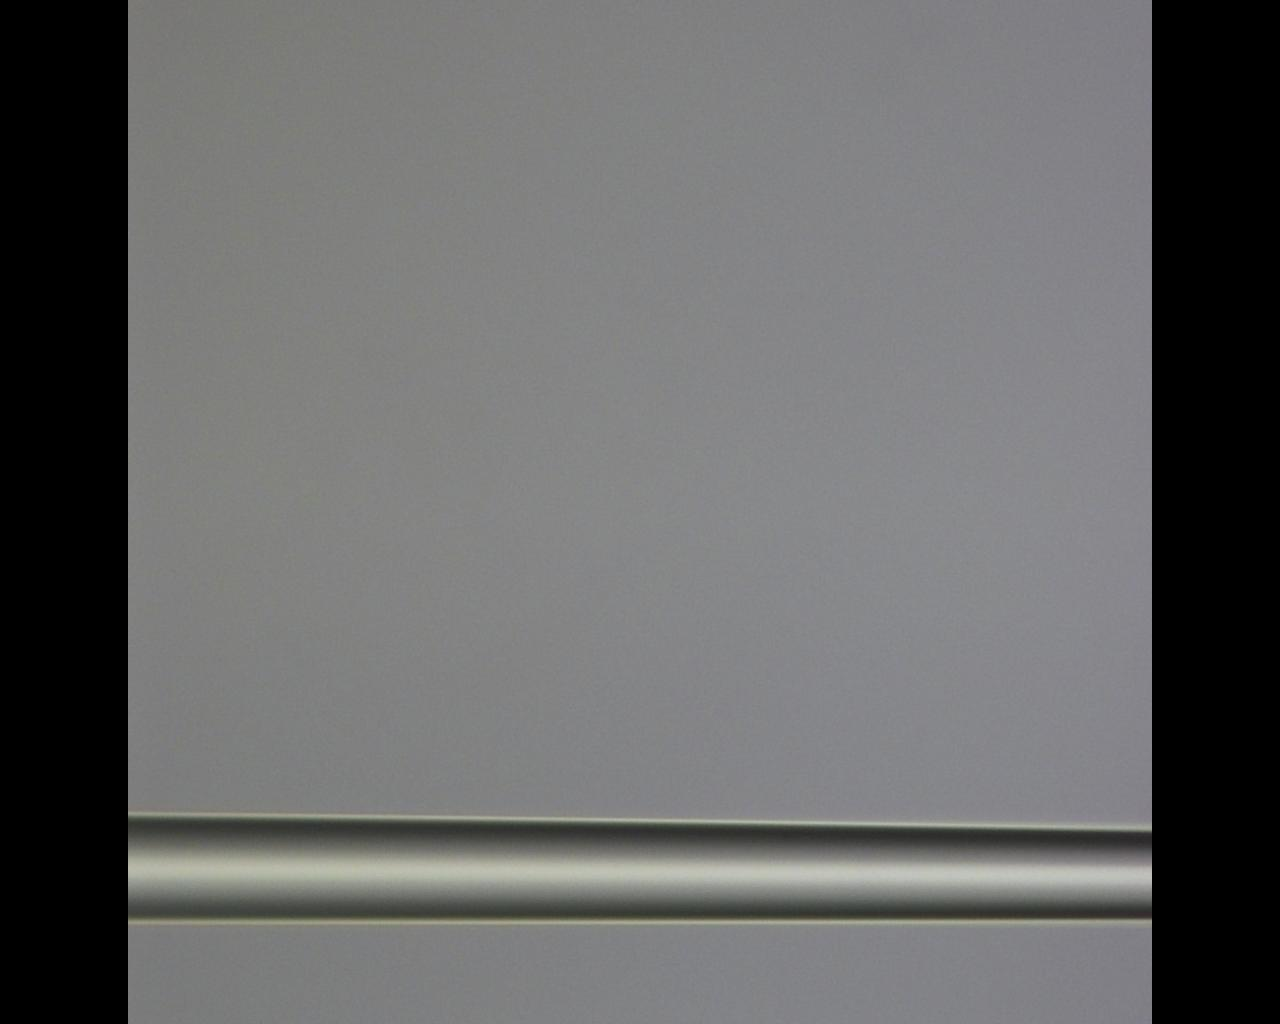fiber: (588, 300, 1280, 712), (520, 256, 588, 1024)
